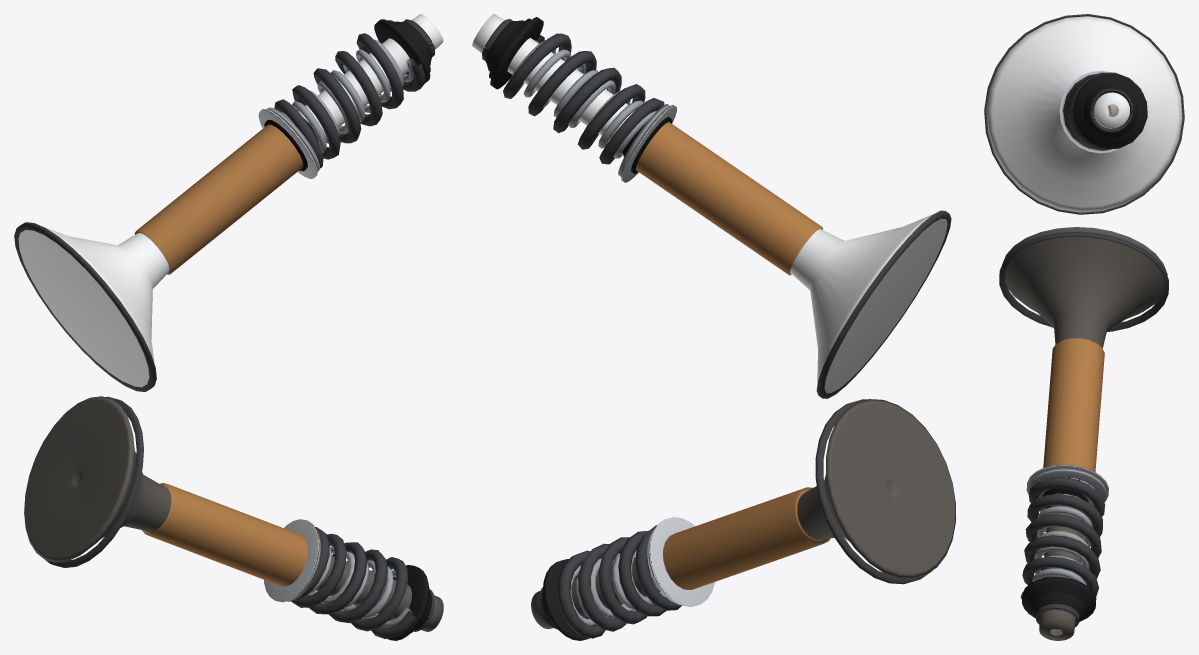
The model's file is valve-set-5.glb.
3 renders of one model, left to right at view 1: azimuth 30°, elevation 25°; view 2: azimuth 150°, elevation 25°; view 3: azimuth 270°, elevation 25°, orthographic. The views are drawn at different scales.
Visible parts, largest first — view 1: valve-set-5:bronze, valve-set-5:heatSteel, valve-set-5:darkSteel, valve-set-5:chrome, valve-set-5:steel, valve-set-5:satinBlack, valve-set-5:polishedSteel; view 2: valve-set-5:heatSteel, valve-set-5:bronze, valve-set-5:darkSteel, valve-set-5:chrome, valve-set-5:steel, valve-set-5:satinBlack, valve-set-5:polishedSteel; view 3: valve-set-5:chrome, valve-set-5:heatSteel, valve-set-5:darkSteel, valve-set-5:bronze, valve-set-5:satinBlack, valve-set-5:steel, valve-set-5:polishedSteel.
Part boxes in pixels (left/top/right/bottom): valve-set-5:bronze: left=134, top=124, right=307, bottom=586; valve-set-5:heatSteel: left=24, top=396, right=443, bottom=631; valve-set-5:darkSteel: left=14, top=19, right=434, bottom=638; valve-set-5:chrome: left=18, top=14, right=443, bottom=387; valve-set-5:steel: left=267, top=39, right=413, bottom=627; valve-set-5:satinBlack: left=374, top=19, right=432, bottom=640; valve-set-5:polishedSteel: left=258, top=109, right=319, bottom=602; valve-set-5:heatSteel: left=531, top=399, right=955, bottom=629; valve-set-5:bronze: left=635, top=122, right=830, bottom=589; valve-set-5:darkSteel: left=482, top=19, right=951, bottom=638; valve-set-5:chrome: left=472, top=14, right=947, bottom=393; valve-set-5:steel: left=510, top=40, right=680, bottom=625; valve-set-5:satinBlack: left=485, top=17, right=590, bottom=640; valve-set-5:polishedSteel: left=621, top=105, right=714, bottom=606; valve-set-5:chrome: left=986, top=16, right=1182, bottom=212; valve-set-5:heatSteel: left=1004, top=227, right=1167, bottom=640; valve-set-5:darkSteel: left=984, top=14, right=1184, bottom=627; valve-set-5:bronze: left=1043, top=105, right=1111, bottom=472; valve-set-5:satinBlack: left=1022, top=73, right=1147, bottom=629; valve-set-5:steel: left=1029, top=73, right=1108, bottom=585; valve-set-5:polishedSteel: left=1026, top=71, right=1121, bottom=502.
Size of the model in its own units: 112 by 154 by 49.48.
